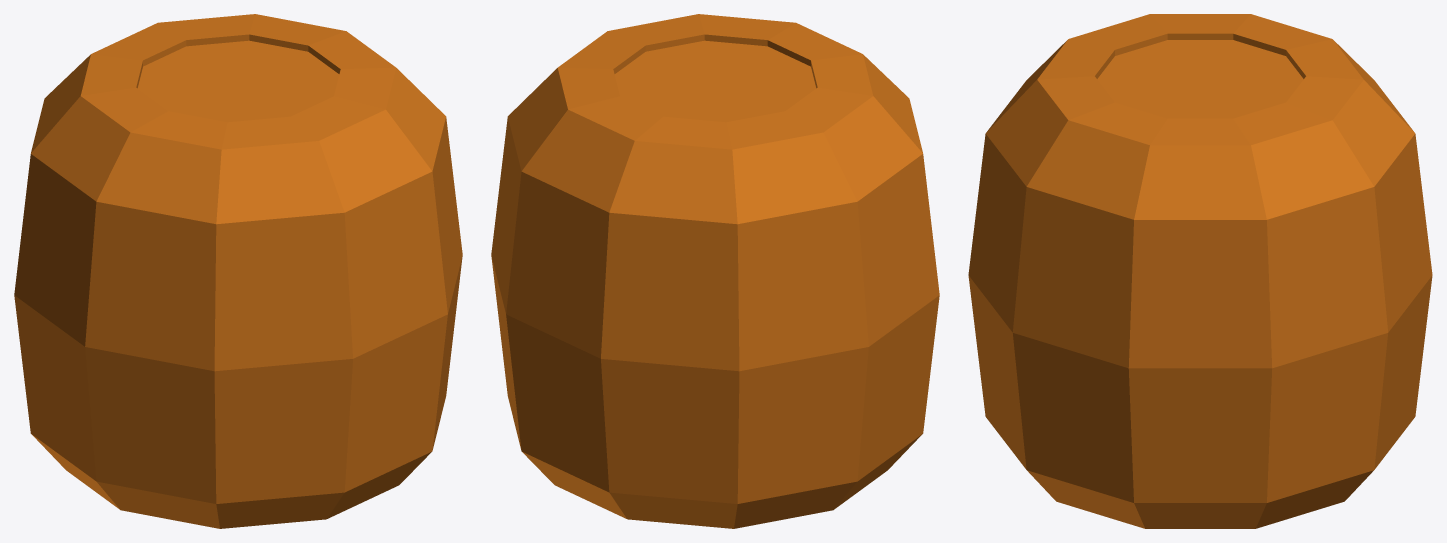
The model's file is barrel.fbx.
3 views of the same model, side by side, from view 1: azimuth 30°, elevation 25°; view 2: azimuth 150°, elevation 25°; view 3: azimuth 270°, elevation 25° (orthographic).
Visible parts, largest first — view 1: Cylinder; view 2: Cylinder; view 3: Cylinder.
Part boxes in pixels (left/top/right/bottom): Cylinder: left=14, top=14, right=462, bottom=528; Cylinder: left=491, top=14, right=939, bottom=528; Cylinder: left=968, top=14, right=1432, bottom=528.
Size of the model in its own units: 283 by 270 by 298.
